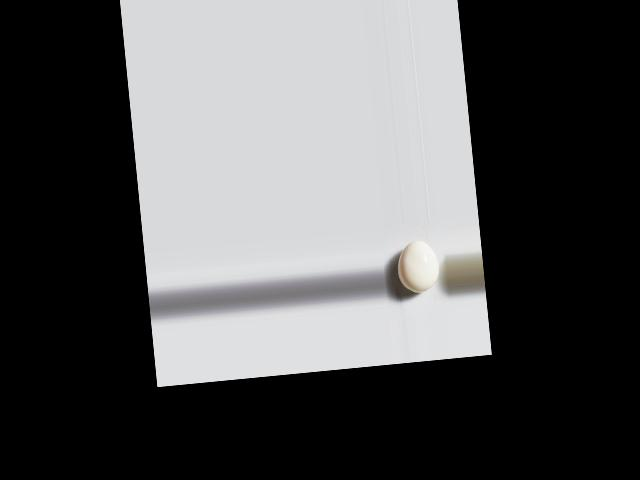egg: (395, 239, 440, 295)
